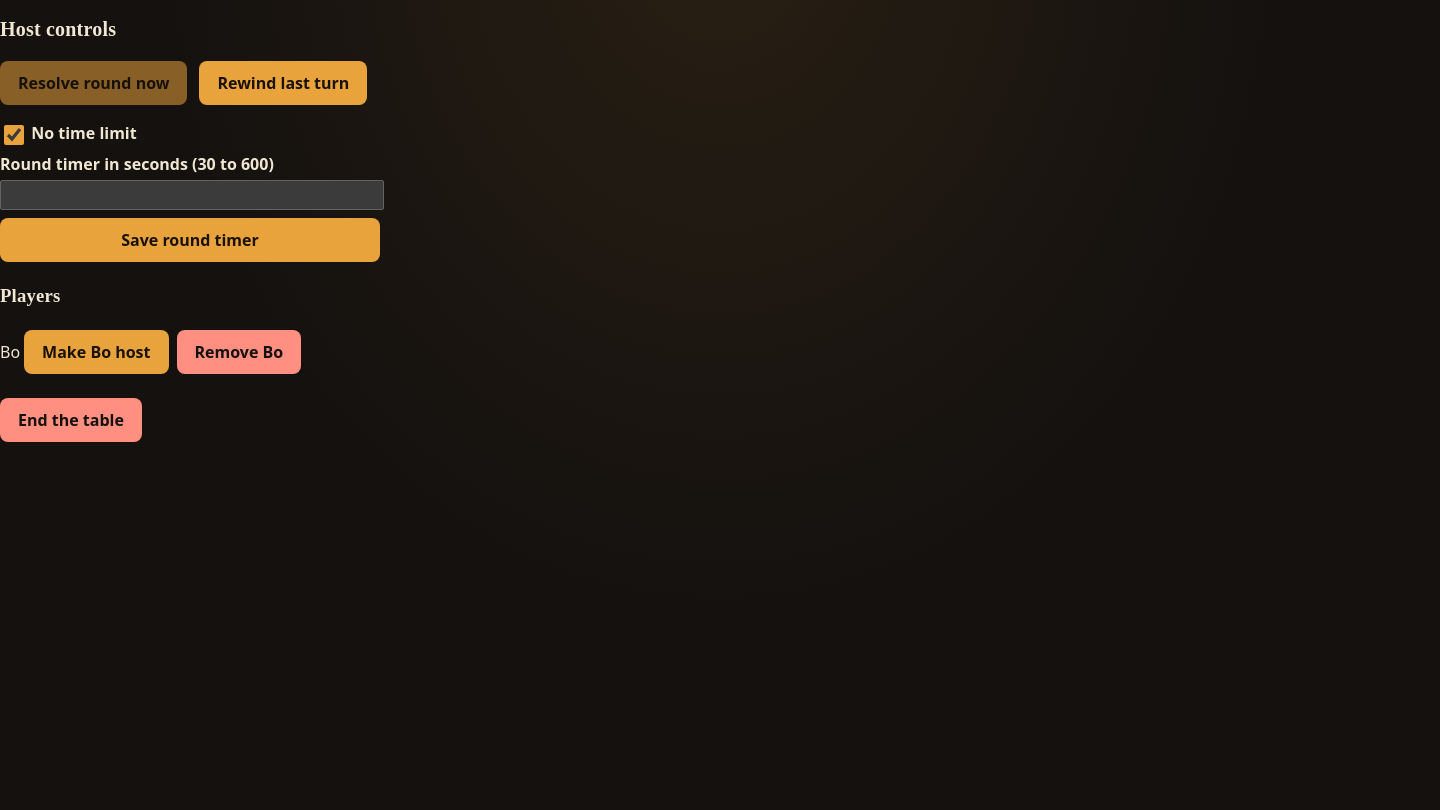
Test: HostControls › transfers host only after confirming
Click the button "Make Bo host" at [96, 352], box [24, 330, 168, 374]
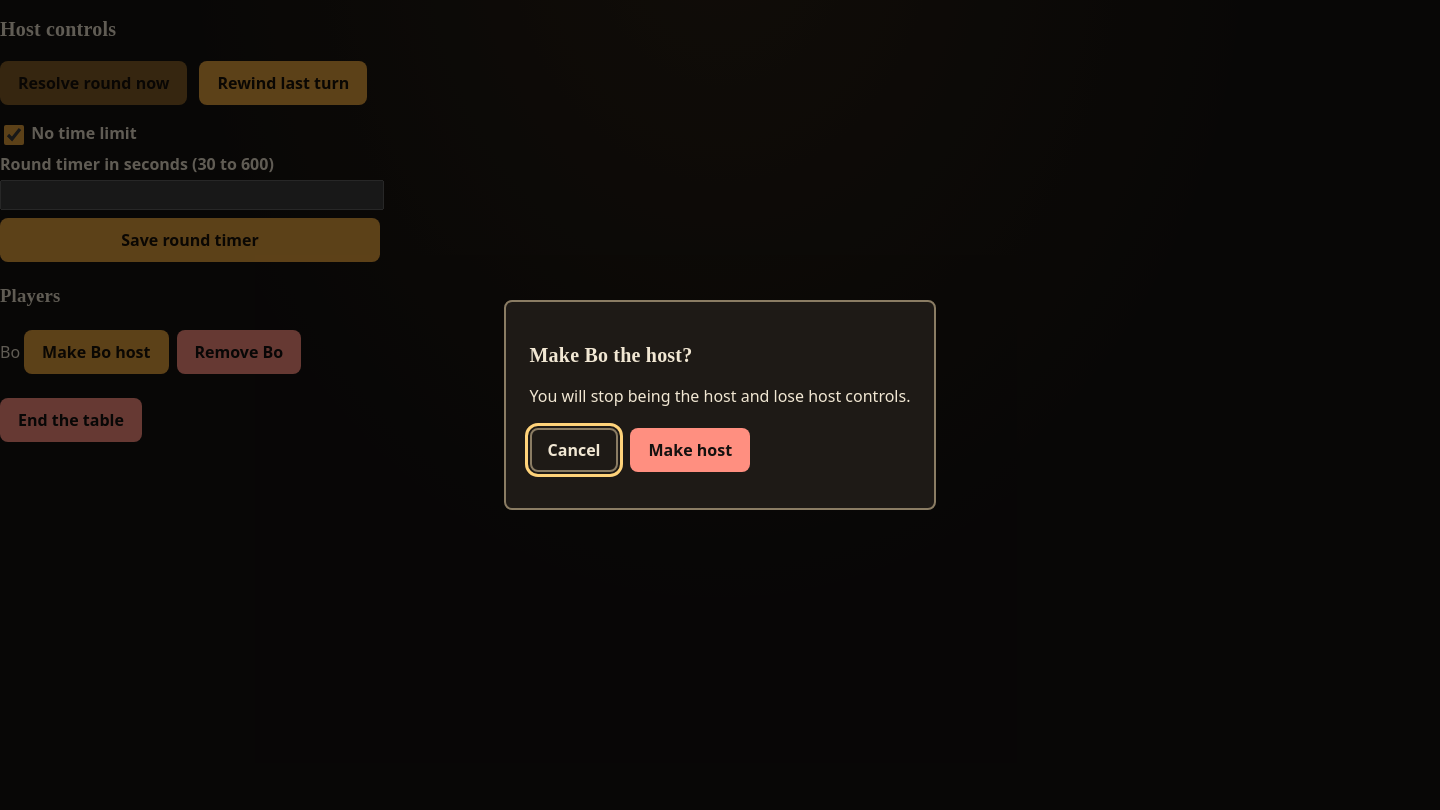
expect the dialog is shown: met, box [504, 300, 936, 510]
Click the button "Make host" at [690, 450], box [630, 428, 750, 472]
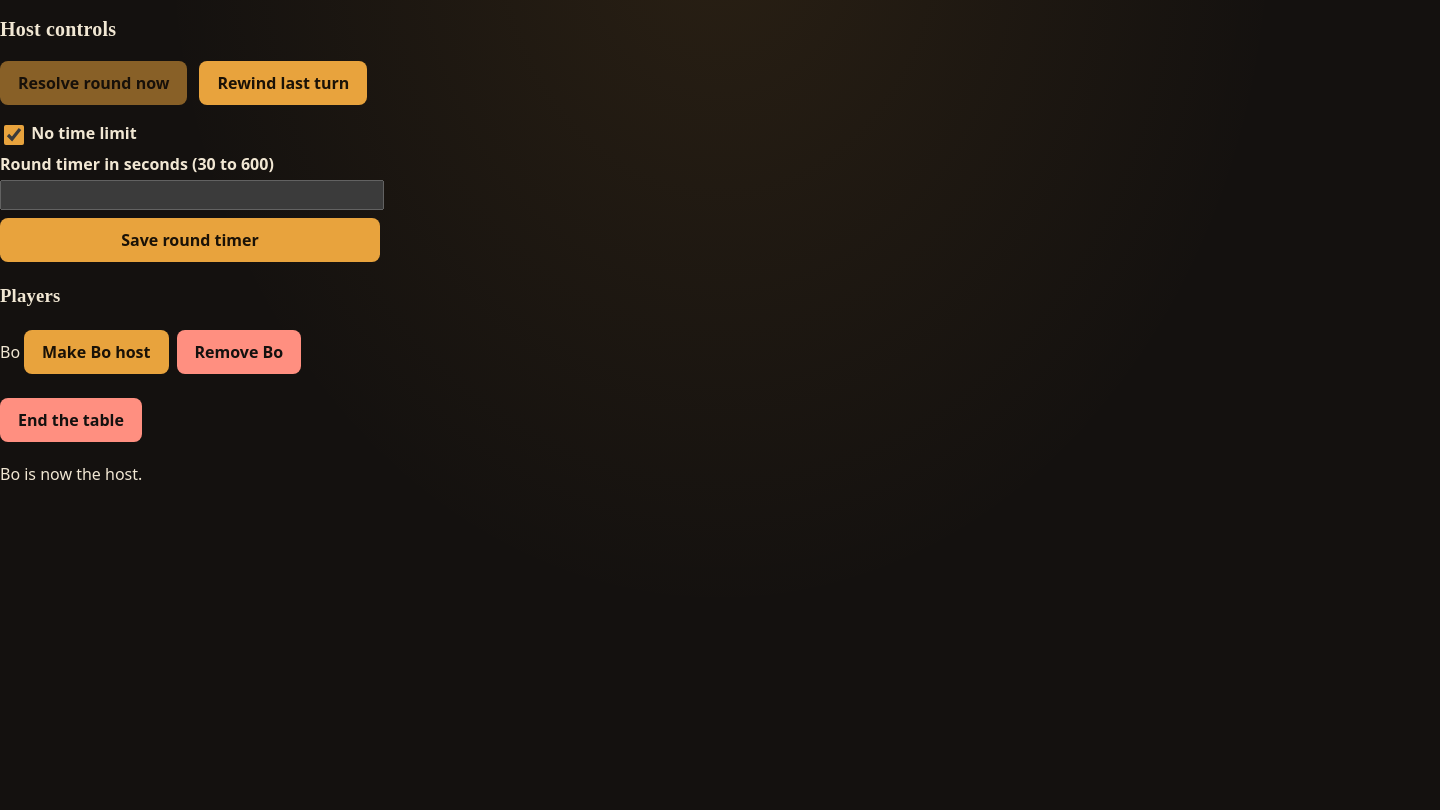
expect the dialog is gone: met
